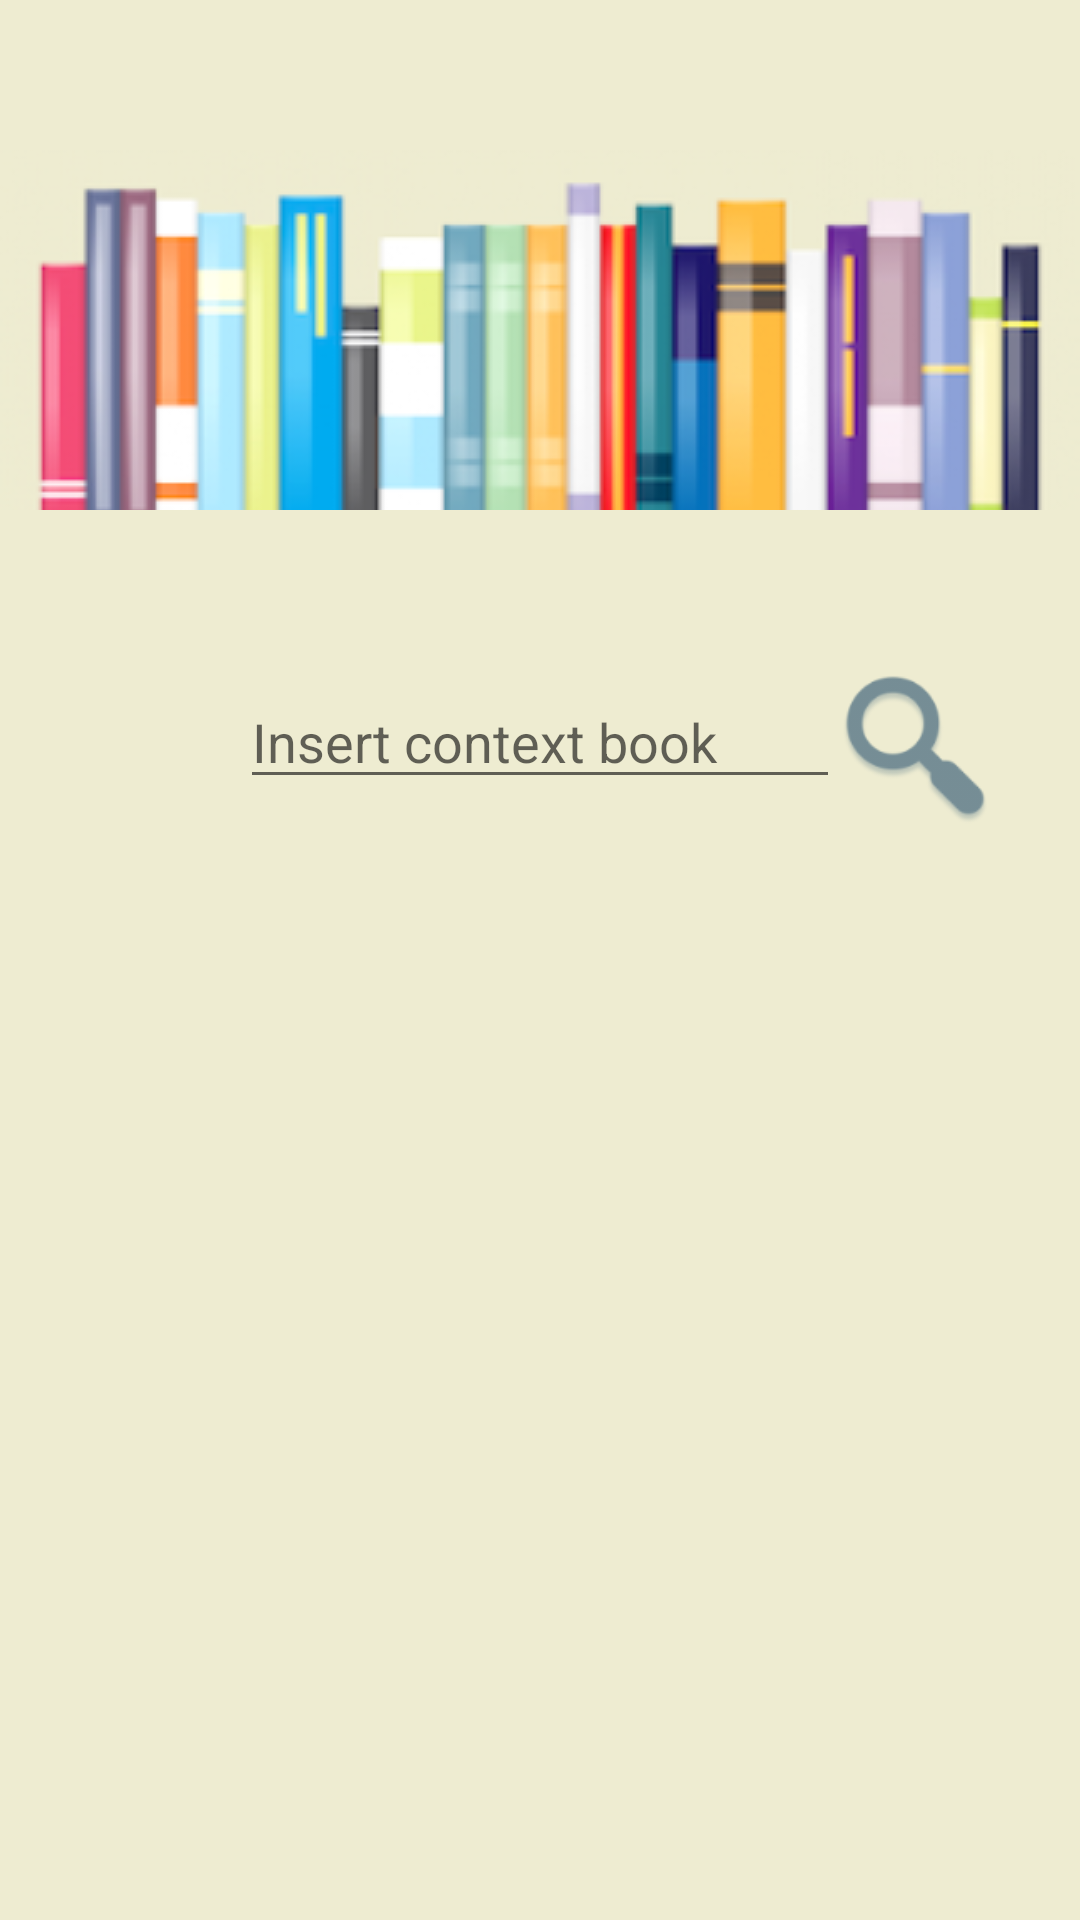

Icon click points for this 1080×1920 phone screenshot, format (x=x, y=y):
shortcut search: (x=915, y=747)
